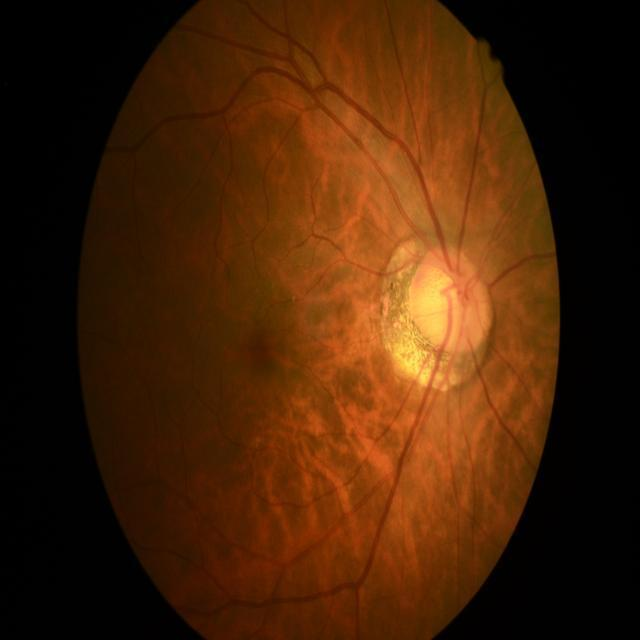cup: (418, 265, 471, 344)
disk: (409, 246, 492, 354)
